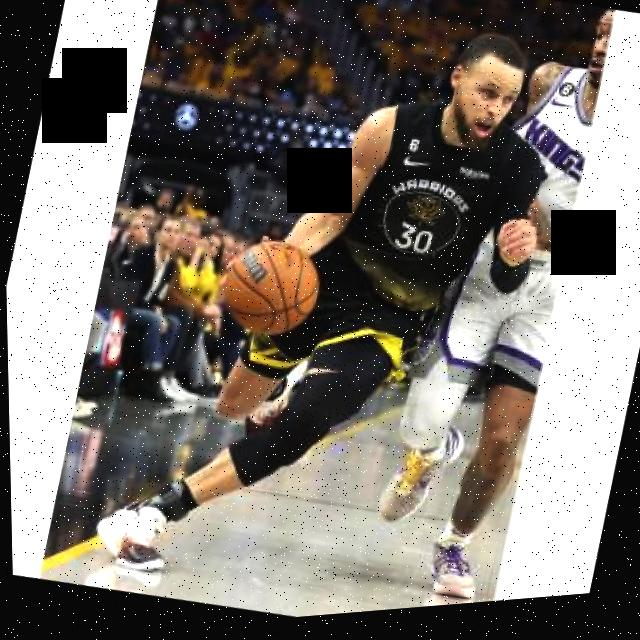shoe: (372, 420, 465, 541), (82, 490, 174, 582), (418, 533, 485, 611)
